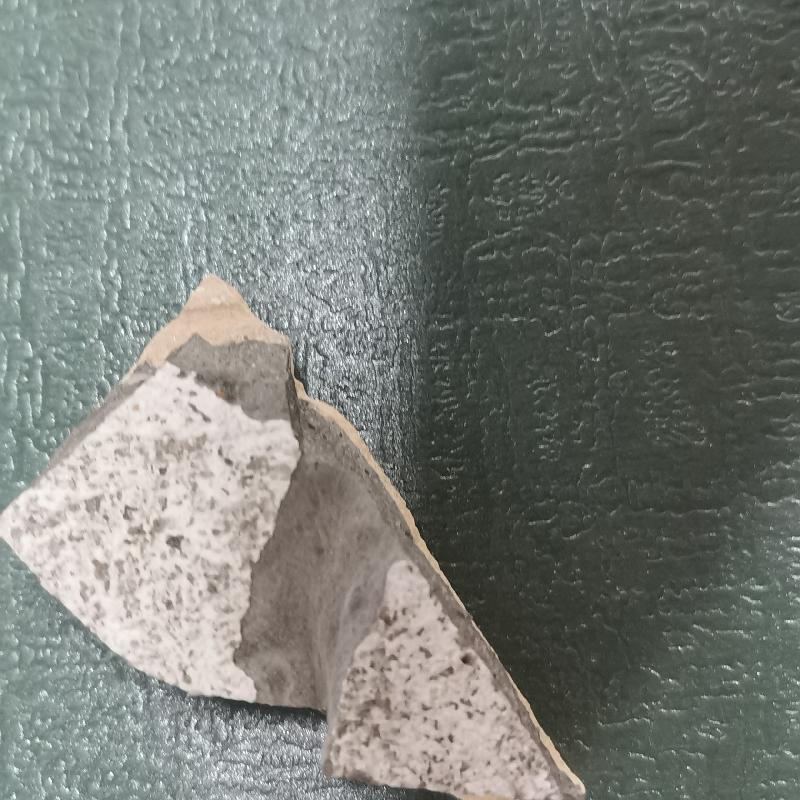tile: (8, 271, 590, 800)
